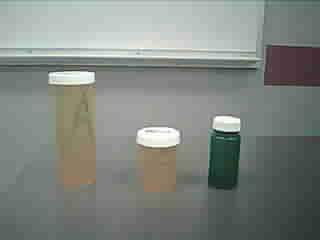Bottle A: (45, 68, 111, 191)
Bottle B: (134, 120, 187, 201)
Bottle C: (207, 111, 245, 201)
